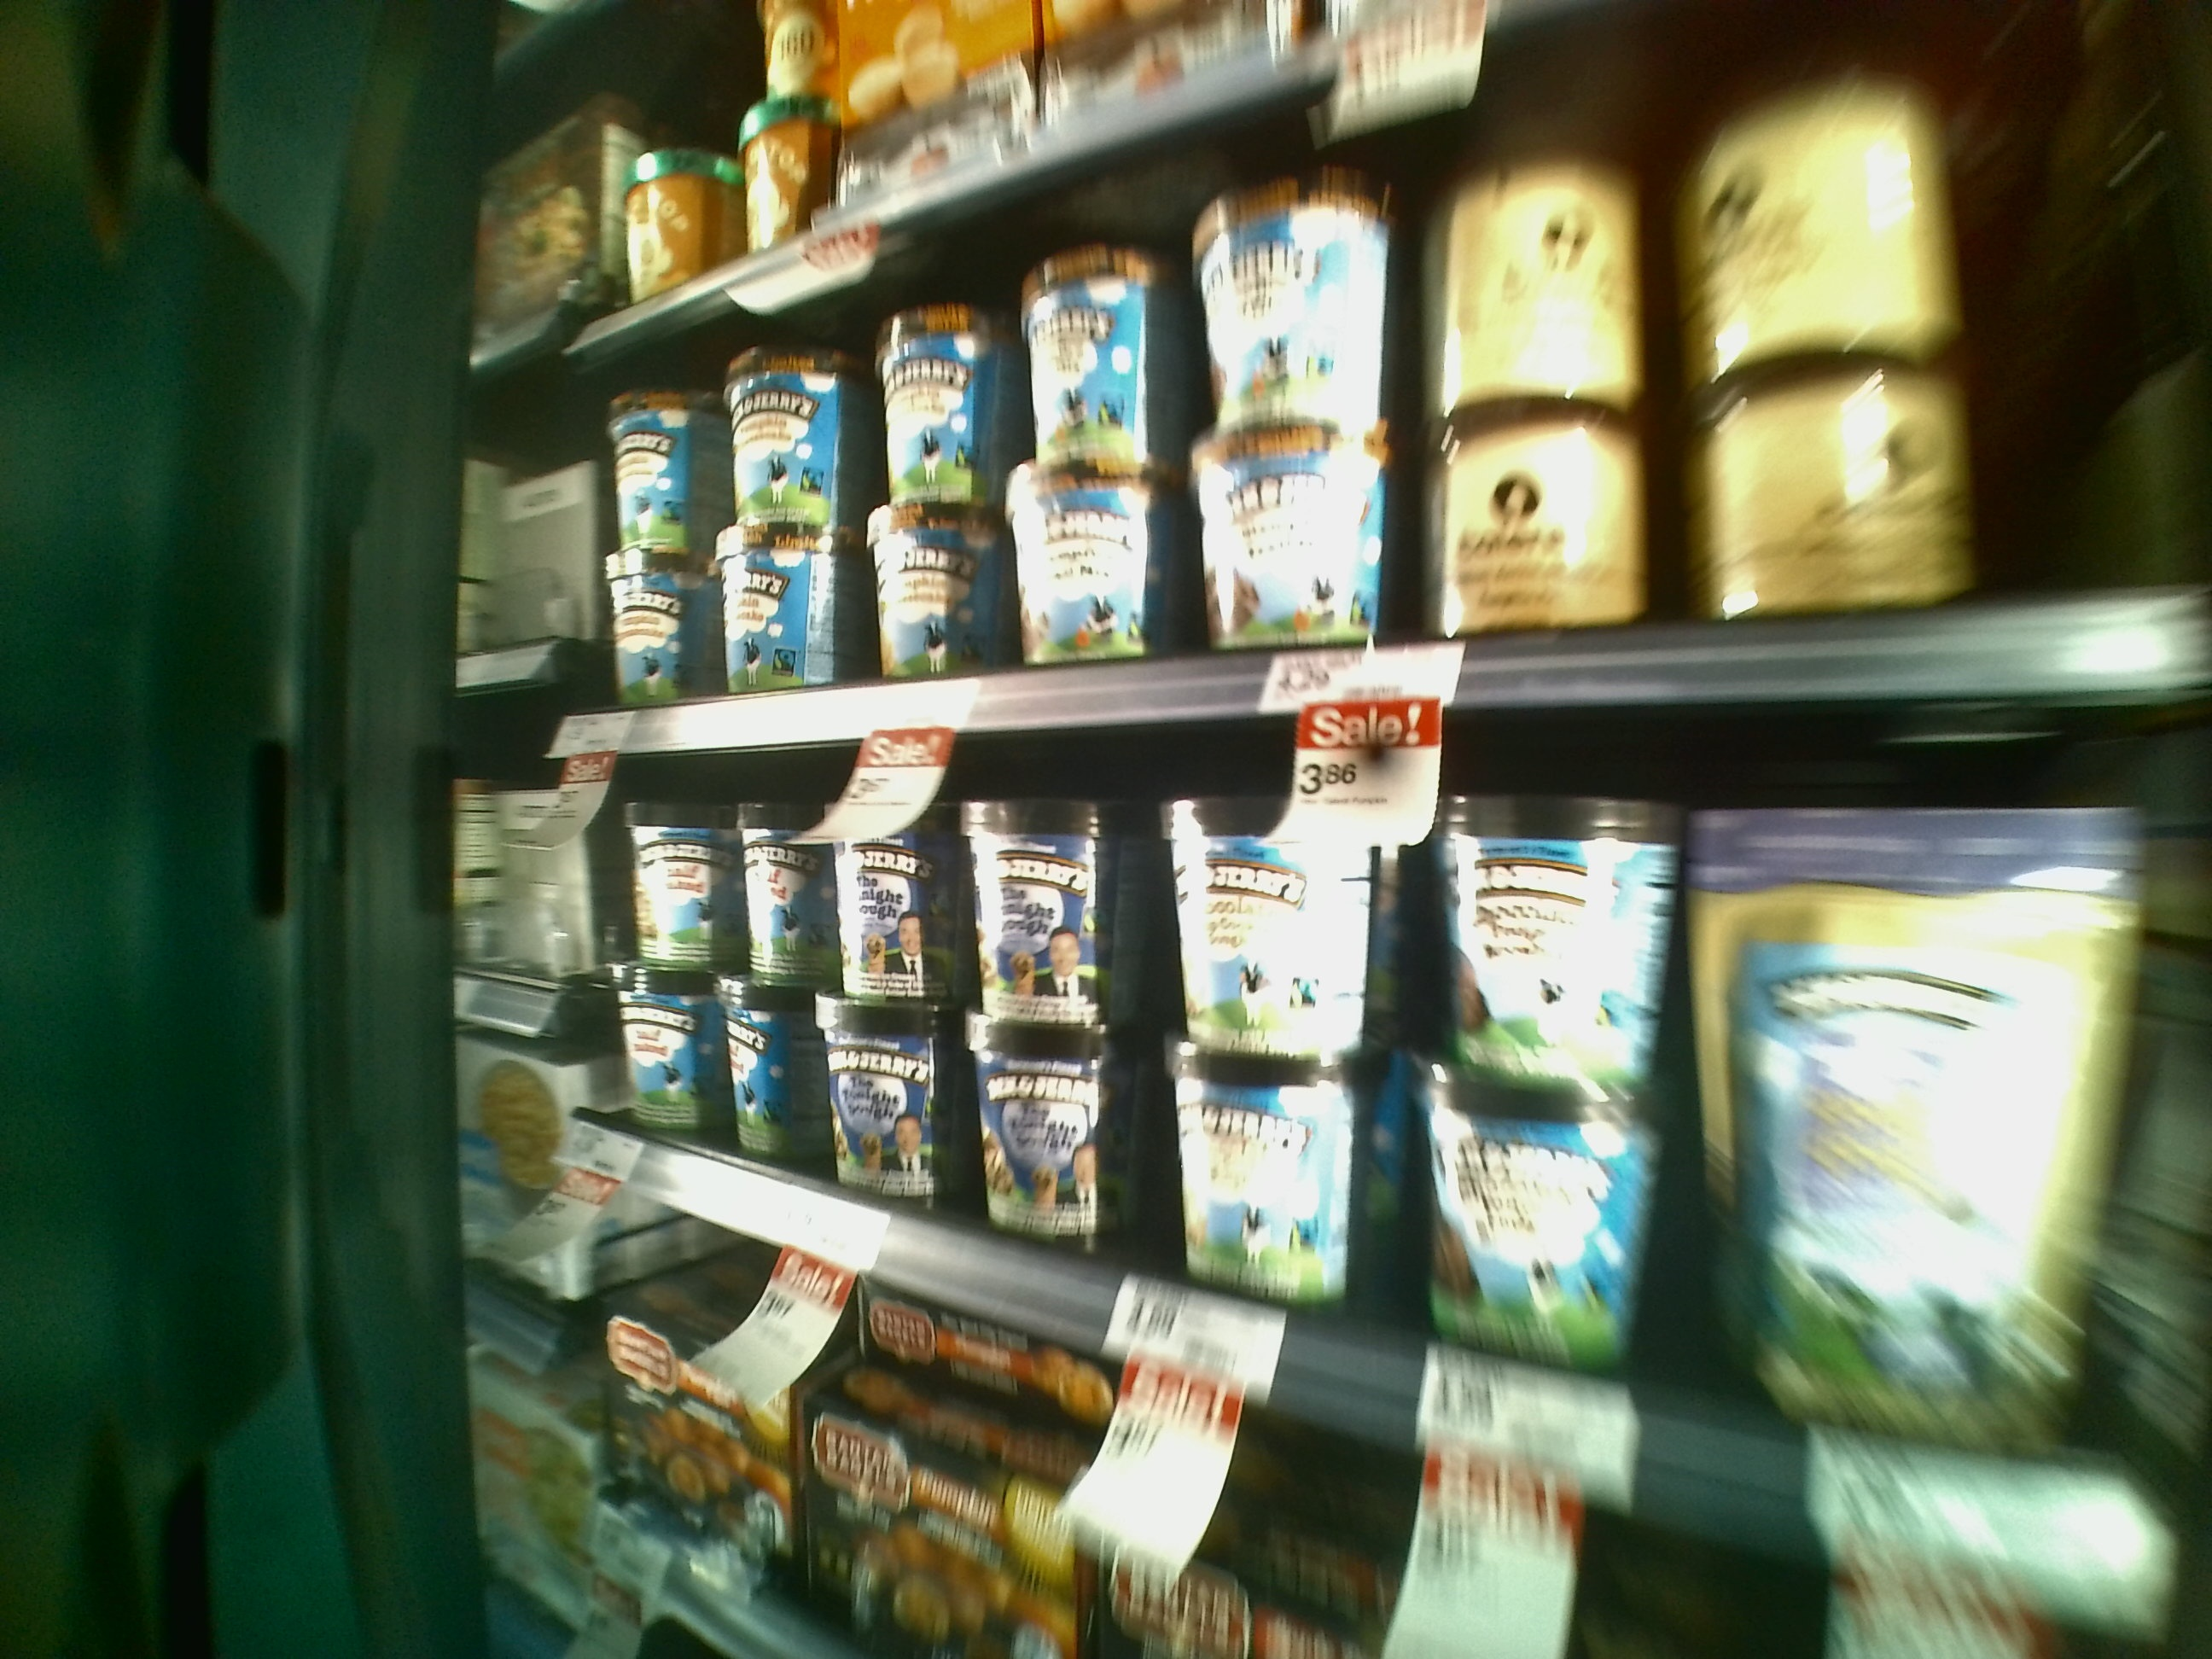shelf: (578, 673, 2186, 1544), (557, 145, 2094, 701)
